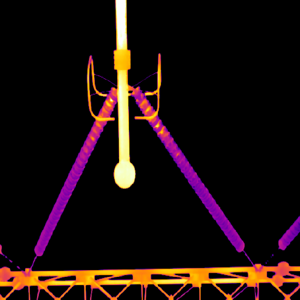insulator: (130, 86, 244, 251), (33, 88, 119, 256), (278, 216, 300, 247)
